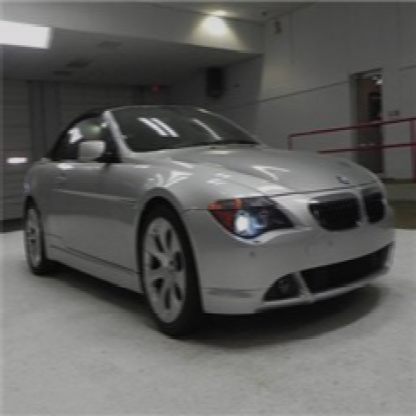Vehicle: (18, 101, 402, 348)
